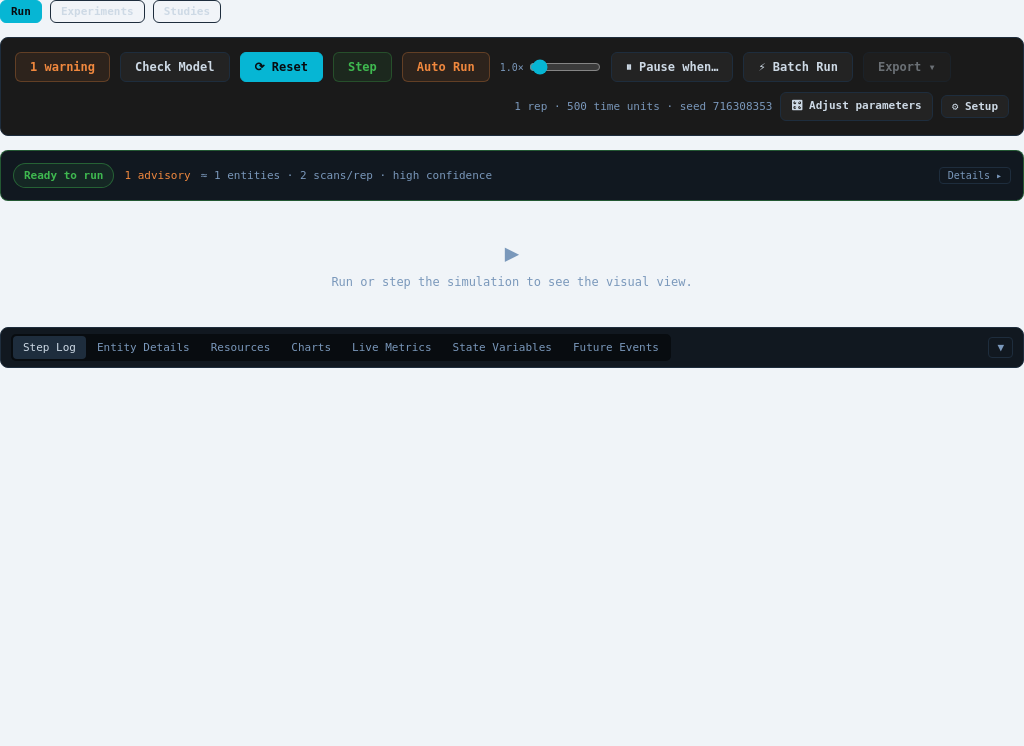
Test case: ExecutePanel single-run progress › renders single-run progress state while a run is underway
Click the button "⚡ Batch Run". click: (798, 67)
box: [743, 52, 853, 82]
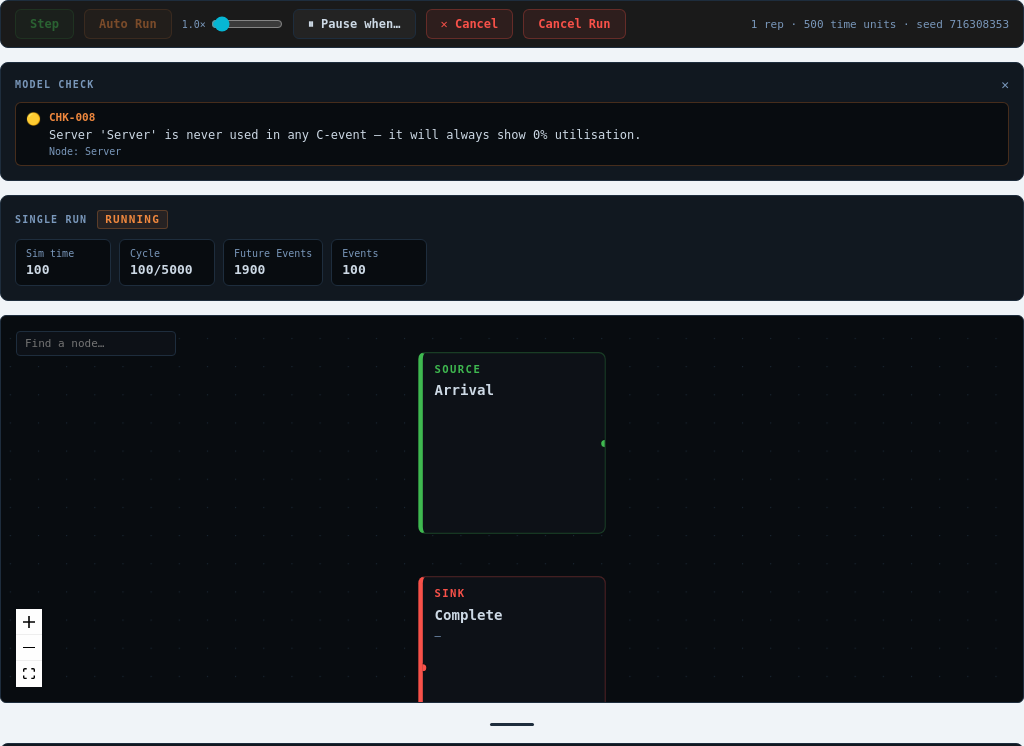
Check: the text "SINGLE RUN" is shown, box [15, 214, 87, 225]
Check: the button "Cancel Run" is shown
Click the button "Cancel Run". click: (574, 24)
box: [523, 9, 626, 39]
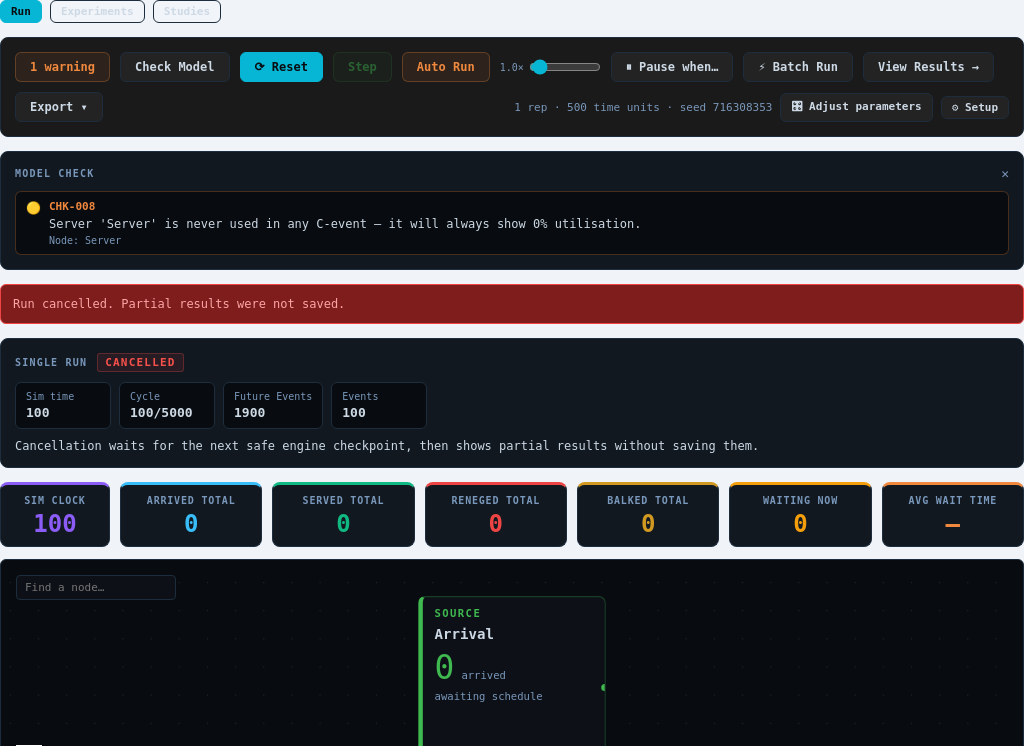
Check: the text "cancelled" is shown, box [97, 353, 184, 372]
